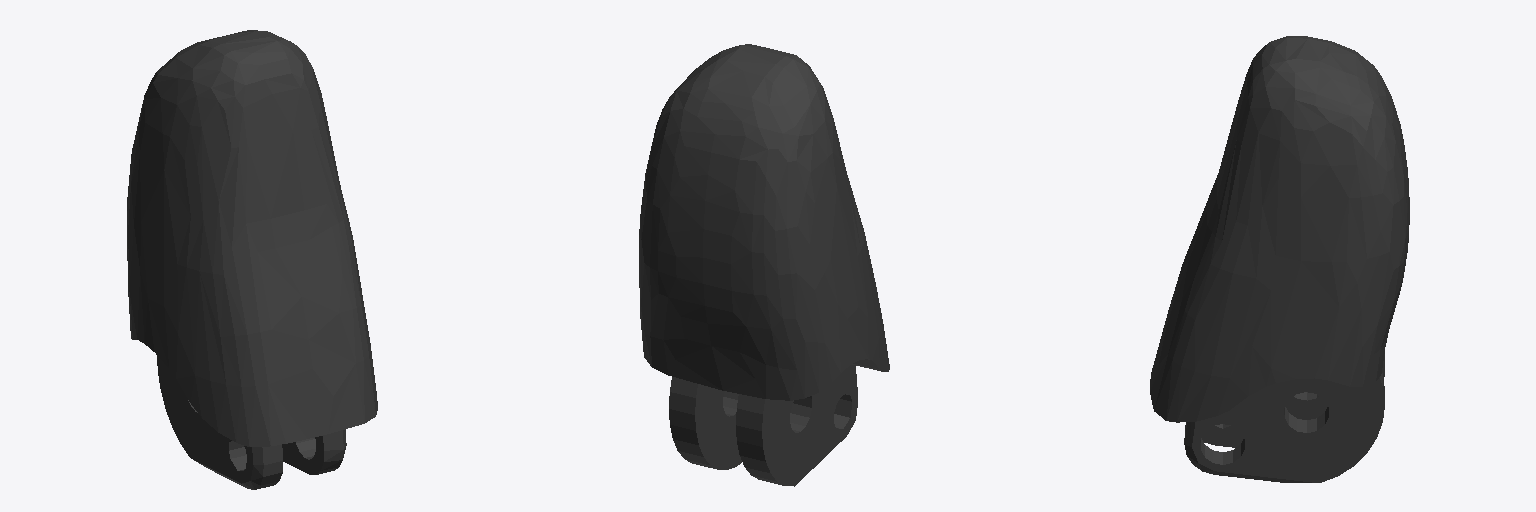
File: L_thumb_distal.obj
3 views of the same model, side by side, from view 1: azimuth 30°, elevation 25°; view 2: azimuth 150°, elevation 25°; view 3: azimuth 270°, elevation 25° (orthographic).
Size of the model in its own units: 0.0147 by 0.0302 by 0.0172.